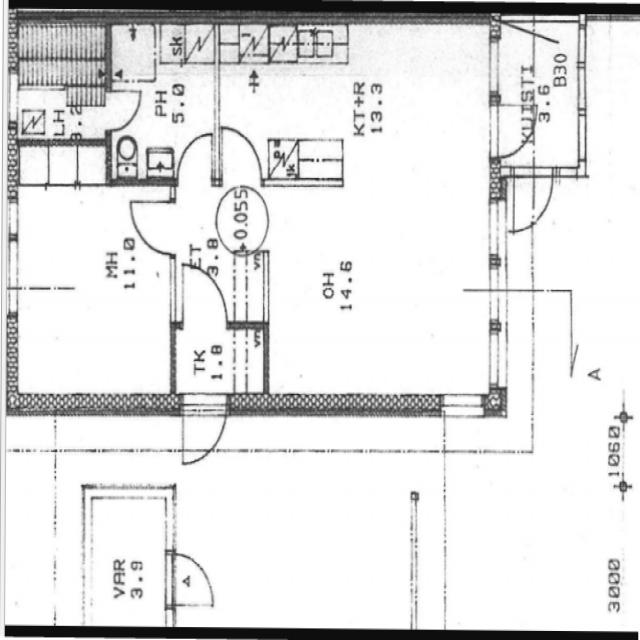door: (183, 394, 226, 473), (184, 264, 226, 329), (489, 104, 539, 158), (164, 554, 213, 604), (222, 126, 262, 185), (514, 166, 552, 228), (130, 202, 176, 253), (177, 133, 212, 185), (106, 92, 140, 130)
